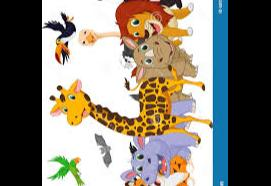Non_Gorille: (49, 0, 194, 186)
